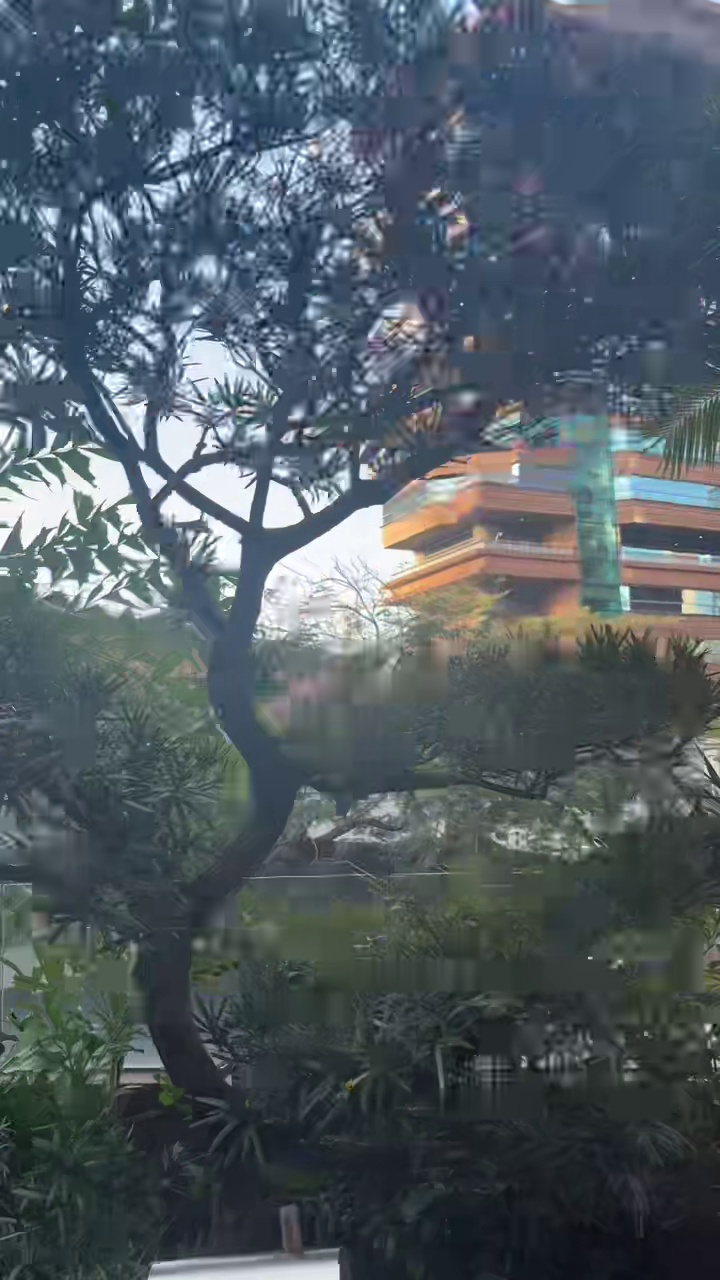Podocarpus macrophyllus: (0, 0, 719, 1100)
